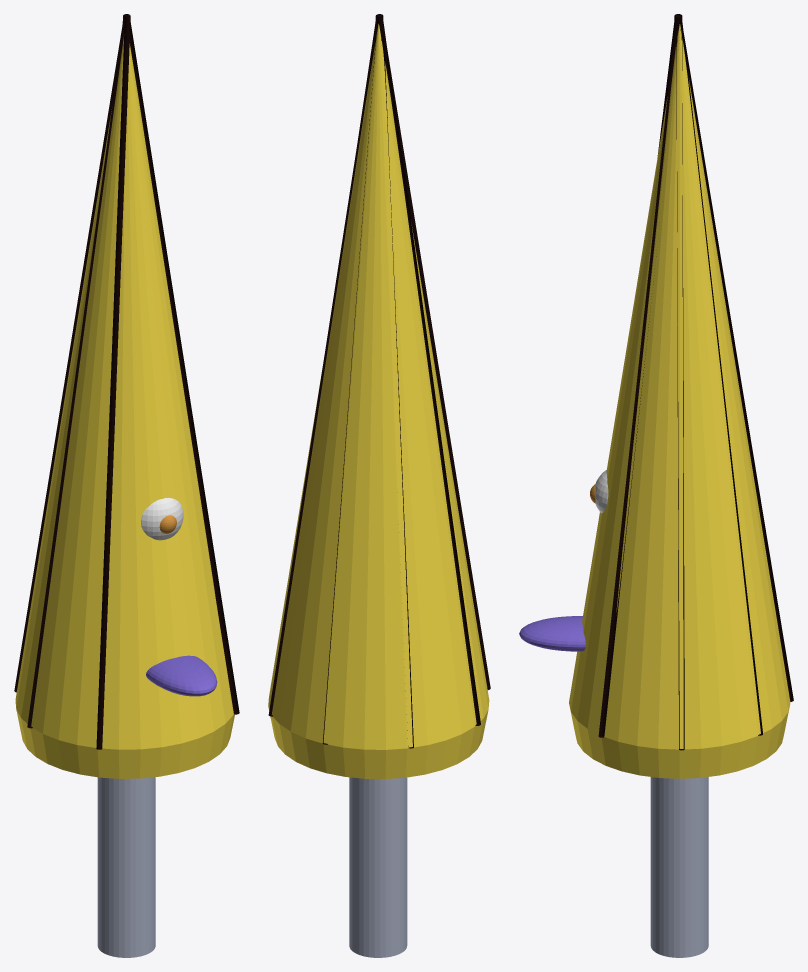
Rendered from KasaObake.fbx.
3 views of the same model, side by side, from view 1: azimuth 30°, elevation 25°; view 2: azimuth 150°, elevation 25°; view 3: azimuth 270°, elevation 25° (orthographic).
Visible parts, largest first — view 1: Cone, Cylinder.001, Cylinder, Sphere.002, Sphere; view 2: Cone, Cylinder, Cylinder.001; view 3: Cone, Cylinder, Cylinder.001, Sphere.002.
Part boxes in pixels (<box>): Cone: <box>15,34,234,778</box>; Cylinder.001: <box>14,14,239,749</box>; Cylinder: <box>97,777,155,957</box>; Sphere.002: <box>146,655,217,696</box>; Sphere: <box>141,498,183,540</box>; Cone: <box>268,24,489,778</box>; Cylinder: <box>349,777,407,957</box>; Cylinder.001: <box>268,14,490,748</box>; Cone: <box>569,24,790,778</box>; Cylinder: <box>650,777,708,957</box>; Cylinder.001: <box>598,14,793,750</box>; Sphere.002: <box>519,616,585,651</box>.
Bounding box in the file's own units: 50.94 × 226 × 60.56.
